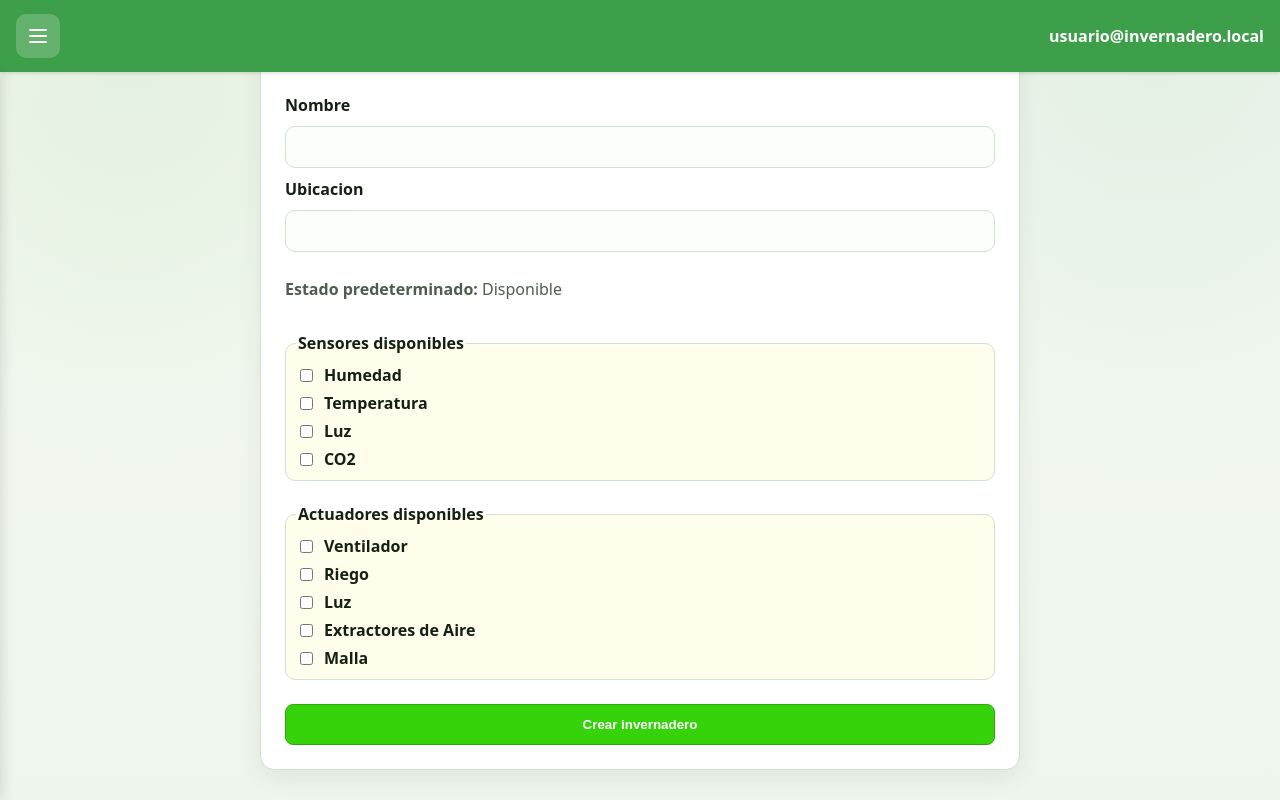
GreenhousePage › shows validations on invalid submit
(page scrolled)
Click the button "Crear invernadero".
click(640, 724)  # box [285,704,995,745]
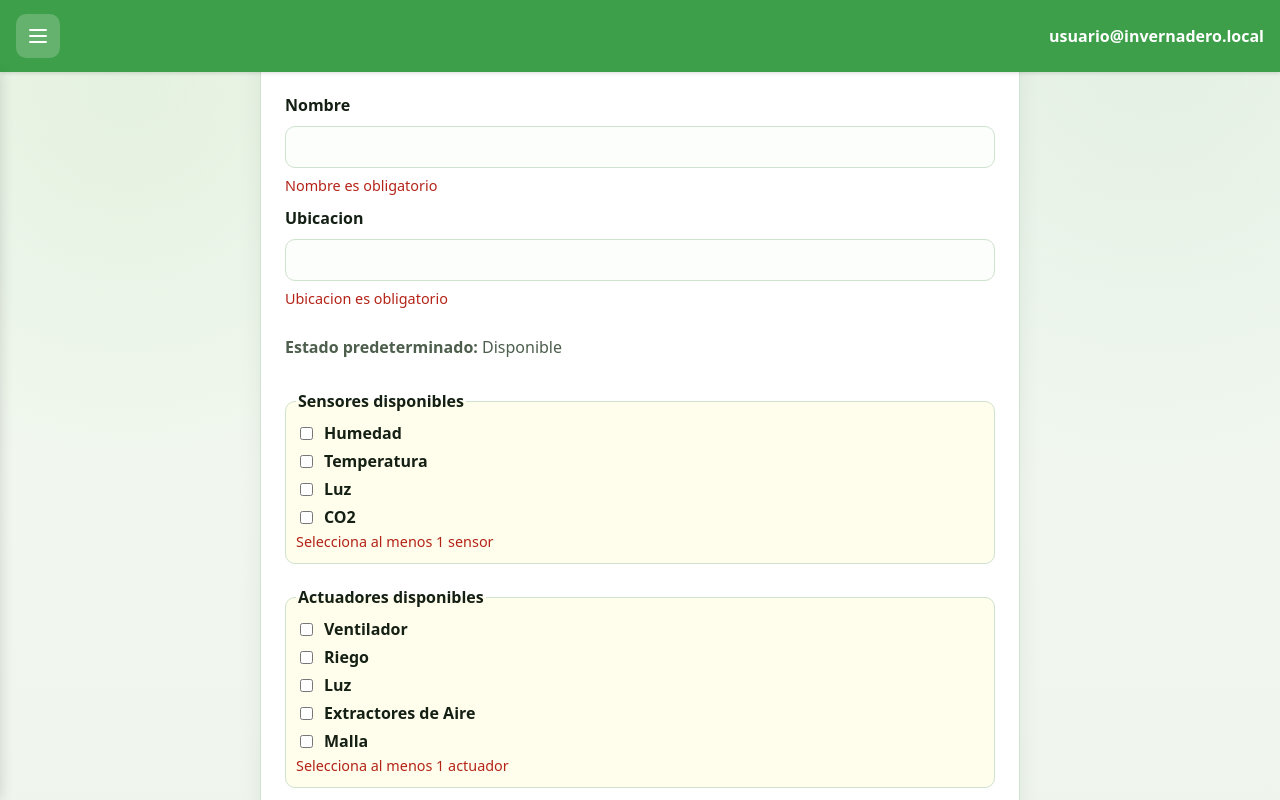
Check: the text "Nombre es obligatorio" is shown, box [285,176,437,195]
Check: the text "Ubicacion es obligatorio" is shown, box [285,289,448,308]
Check: the text "Selecciona al menos 1 sensor" is shown, box [296,532,494,551]
